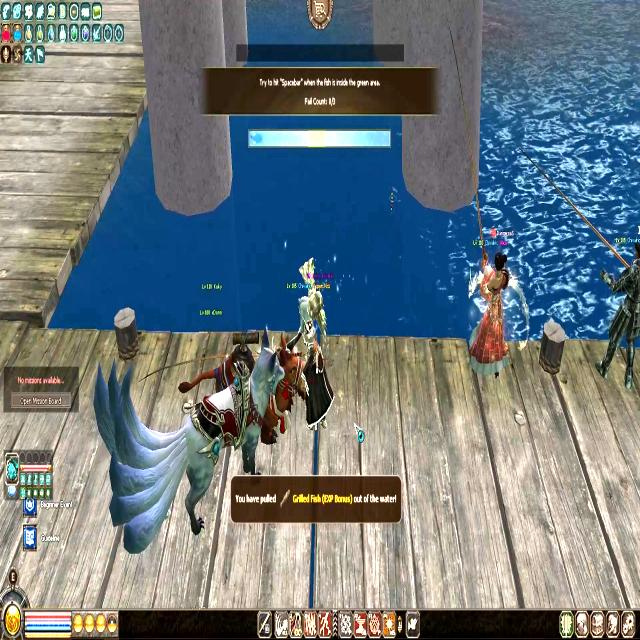fishes: (250, 132, 264, 146)
